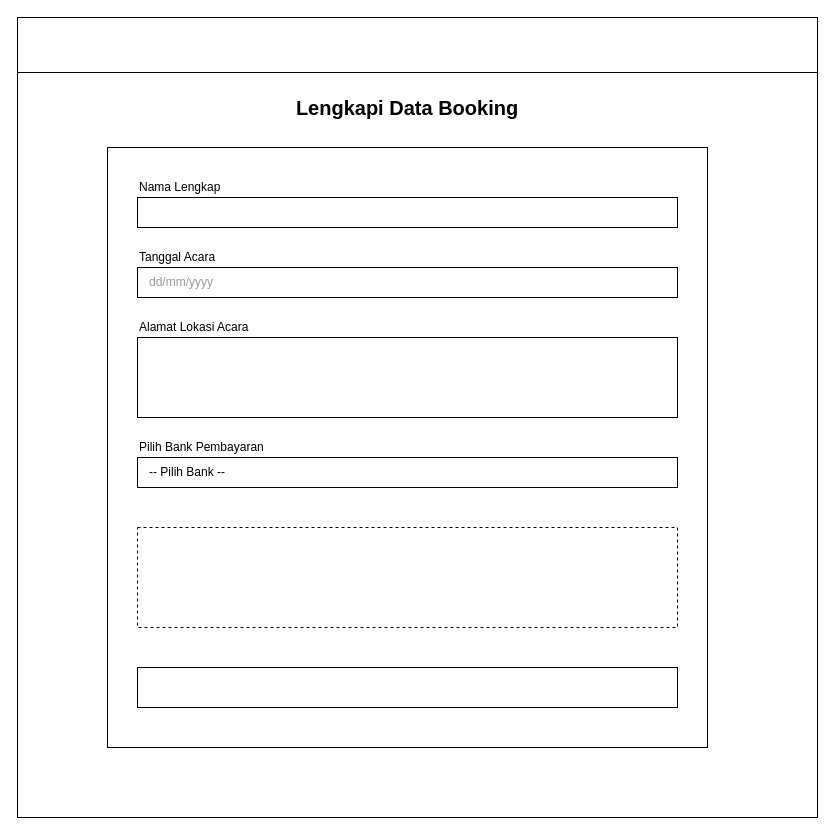
This 835x835 diagram has some shape labels left out. The centre of each missing label's shape, as x and y in pixels:
"Konfirmasi Booking" belongs at (x=407, y=687).
"Ringkasan Pesanan: Layanan: Paket Rias Pengantin Tradisional Total: Rp 5.500.000" belongs at (x=407, y=577).
